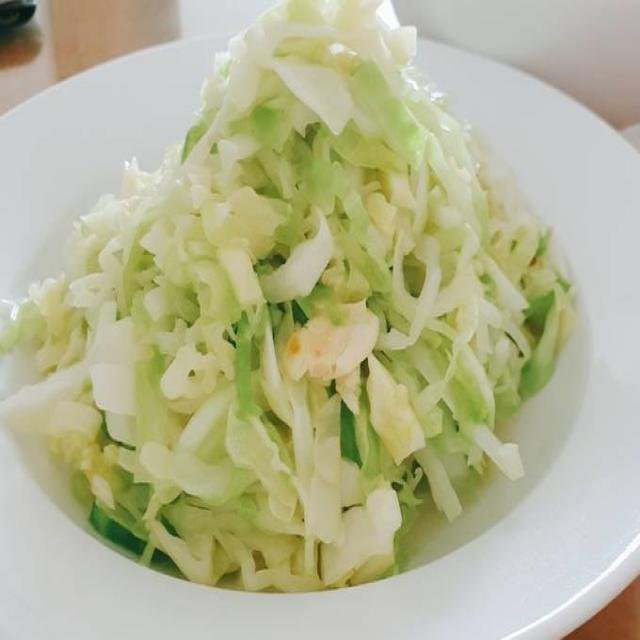bap cai xao: (0, 0, 573, 591)
